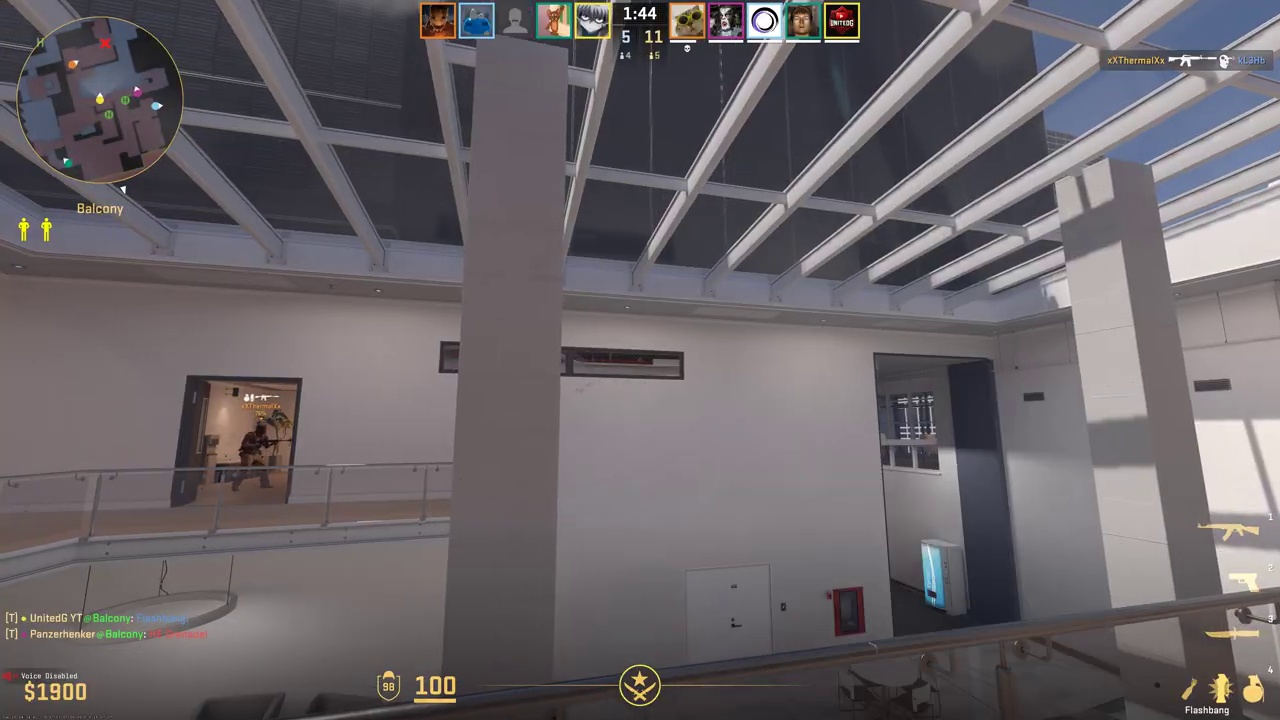Terrorist: (234, 424, 274, 492)
